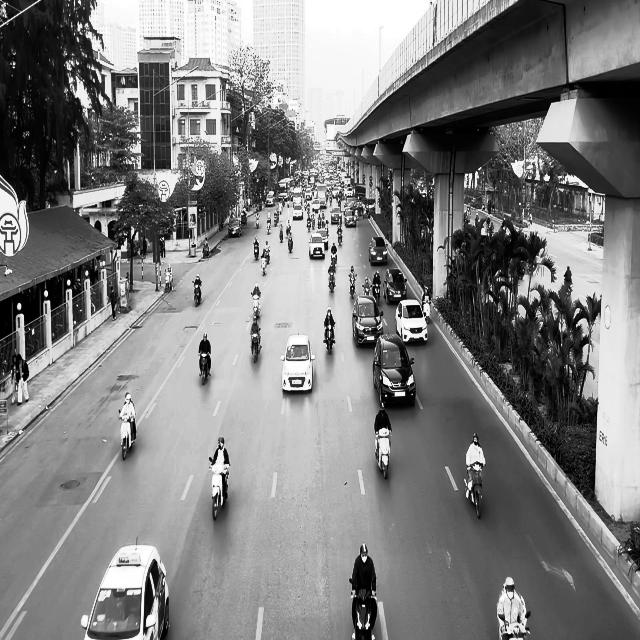car: (81, 537, 170, 639), (373, 332, 416, 407), (280, 333, 315, 394), (352, 295, 384, 347), (395, 298, 428, 344), (383, 267, 407, 304), (368, 236, 388, 265), (308, 232, 325, 259), (228, 218, 241, 237)
motorbike: (349, 578, 375, 639), (209, 460, 229, 520), (464, 462, 484, 519), (499, 610, 531, 639), (118, 411, 136, 460), (375, 427, 391, 479), (198, 350, 210, 384), (250, 326, 261, 363), (324, 322, 335, 354), (250, 292, 260, 318), (192, 280, 202, 306), (422, 299, 431, 323), (328, 266, 336, 292), (164, 270, 173, 292), (348, 274, 356, 298), (202, 242, 210, 258), (261, 256, 267, 276), (253, 242, 259, 260)
